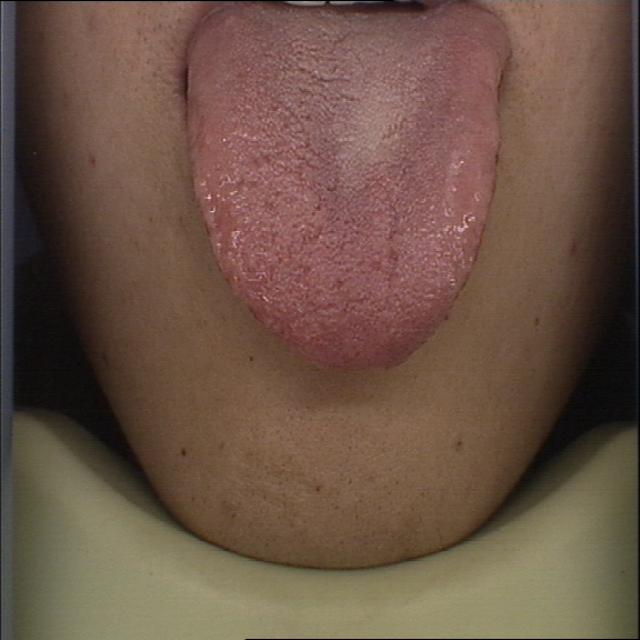baitaishe: (179, 2, 508, 377)
pangdashe: (179, 2, 508, 377)
